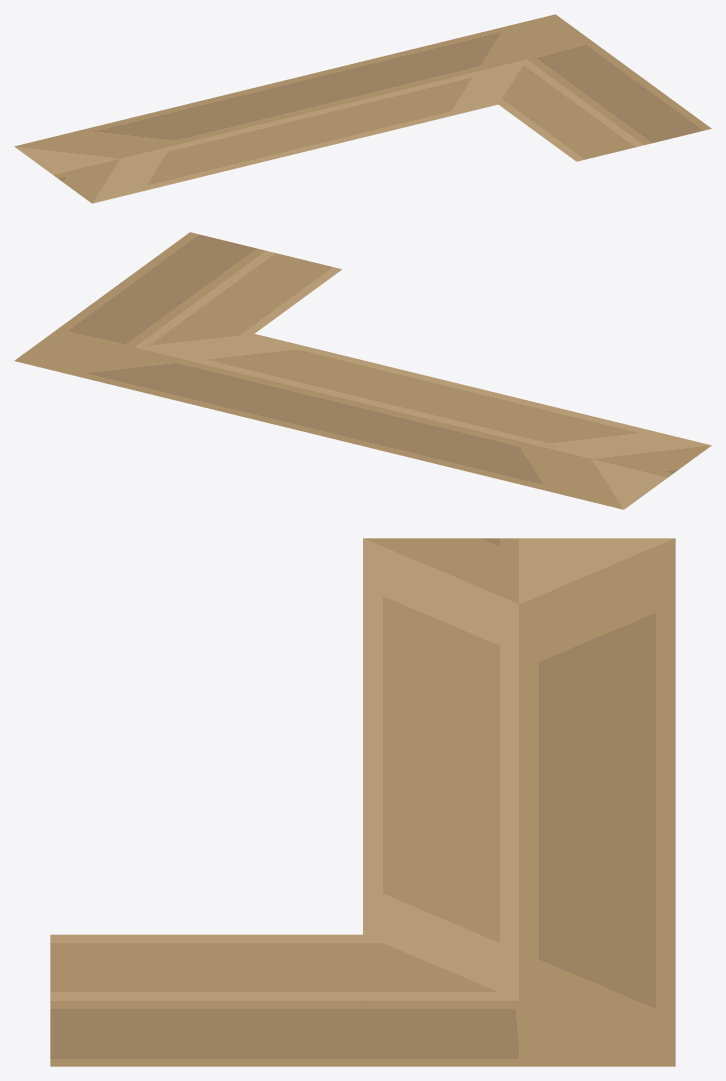
3 renders of one model, top to bottom at view 1: azimuth 30°, elevation 25°; view 2: azimuth 150°, elevation 25°; view 3: azimuth 270°, elevation 25°, orthographic. The views are drawn at different scales.
Size of the model in its own units: 1 by 0 by 0.5.
Materials: 1 (1 with a texture image).
